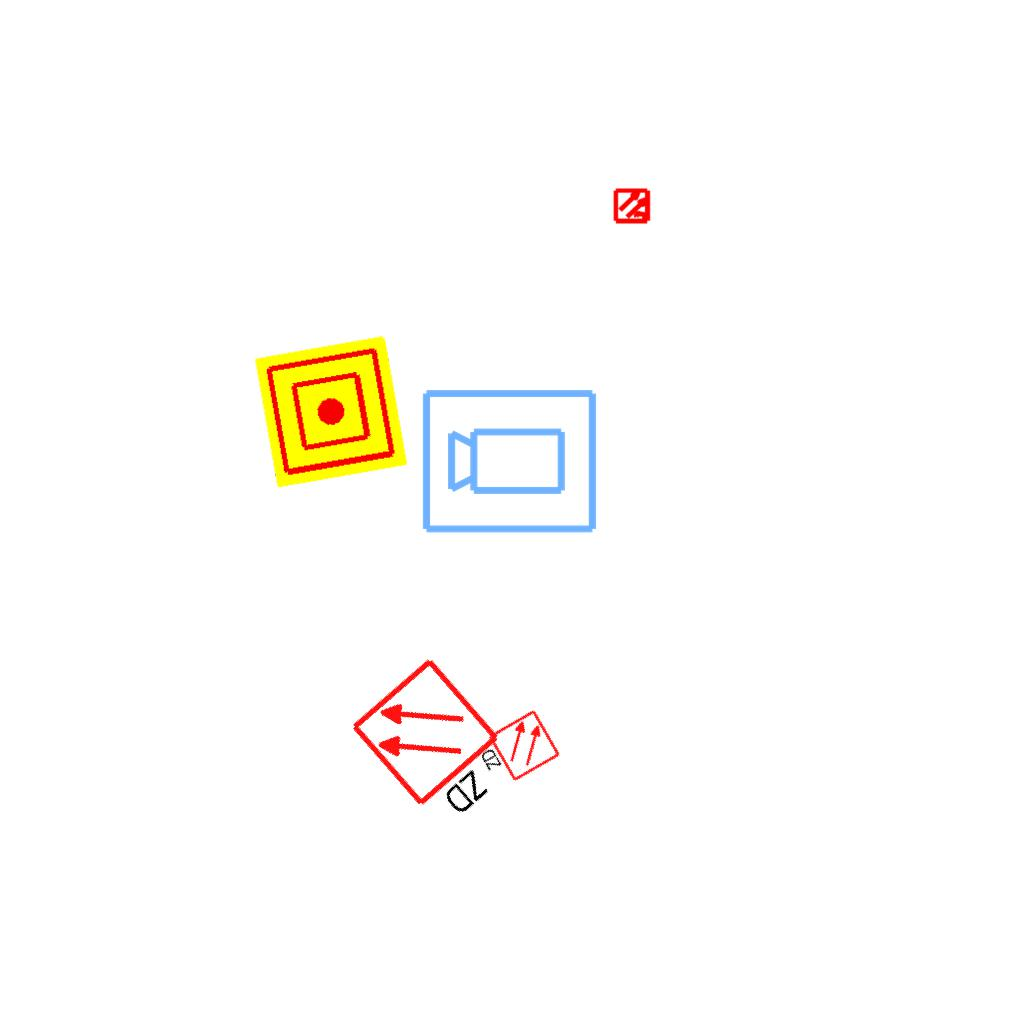KFO_Kamera_mit_Festobjektiv: (419, 383, 601, 537)
NAM-Nichtautomatischer_Melder: (254, 335, 408, 489)
OT_Multisensormelder_(Kombination_RMO_WMD): (605, 178, 661, 234)
ZD_Melder_in_Zwischendecke_mit_Revisionsoeffnung_mind_40_x_40_cm: (347, 651, 531, 840), (470, 707, 563, 795)
